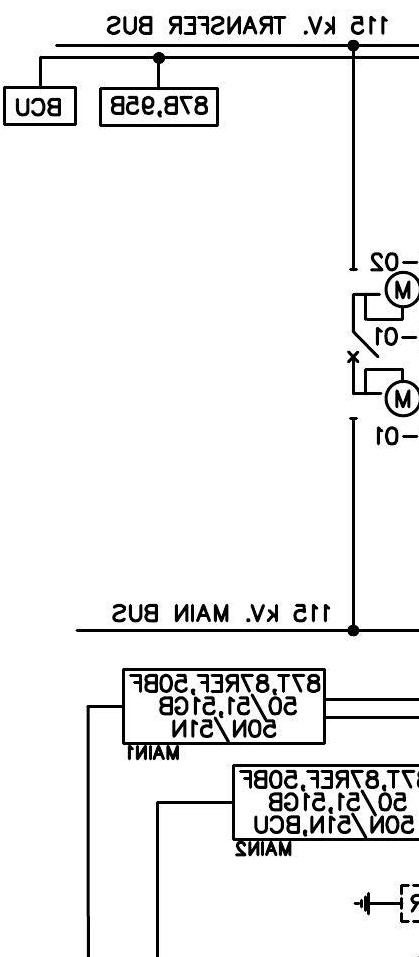115_breaker: (346, 330, 380, 364)
BCU: (2, 85, 78, 127)
